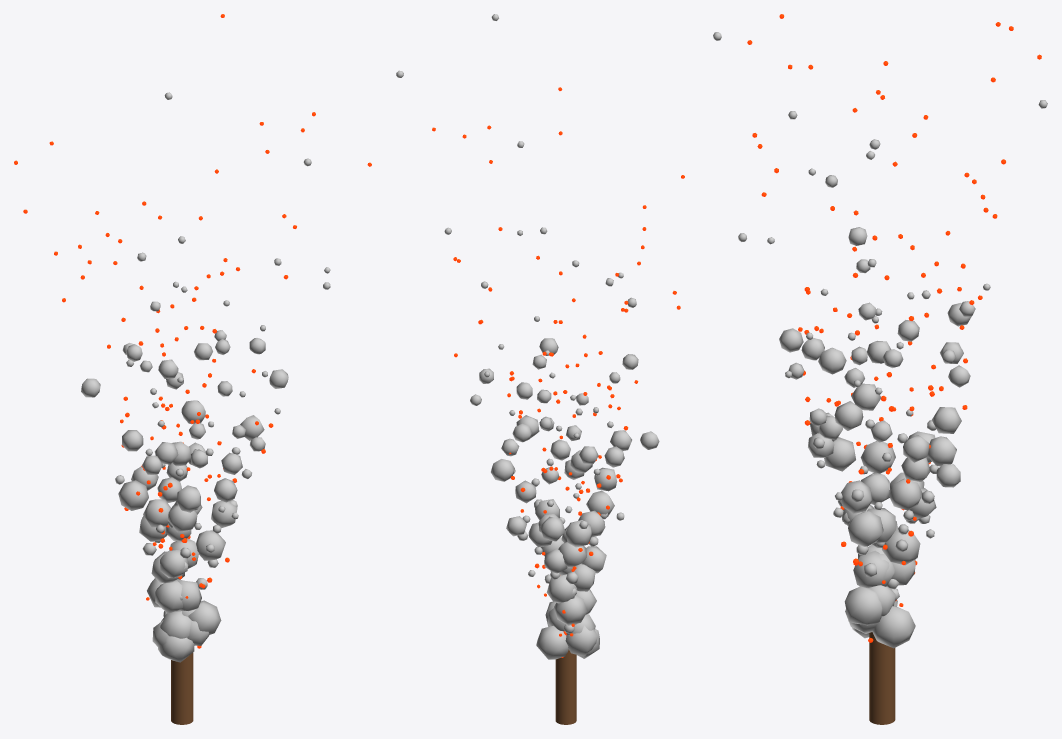
The model's file is fakel.fbx.
3 views of the same model, side by side, from view 1: azimuth 30°, elevation 25°; view 2: azimuth 150°, elevation 25°; view 3: azimuth 270°, elevation 25° (orthographic). The views are drawn at different scales.
Parts seen in each view (by area): view 1: Cylinder, Sphere_54, Sphere_44, Sphere_59, Sphere_61, Sphere_57, Sphere_47, Sphere_46; view 2: Cylinder, Sphere_60, Sphere_53, Sphere_62, Sphere_51, Sphere_44, Sphere_48, Sphere_45, Sphere_38, Sphere_49, Sphere_46, Sphere_35; view 3: Cylinder, Sphere_60, Sphere_59, Sphere_47, Sphere_55, Sphere_51, Sphere_43, Sphere_40, Sphere_45, Sphere_42, Sphere_38, Sphere_36 (+6 smaller).
Part boxes in pixels (x1=…): Cylinder: x1=171, y1=652, x2=193, y2=724; Sphere_54: x1=155, y1=579, x2=182, y2=613; Sphere_44: x1=118, y1=480, x2=148, y2=510; Sphere_59: x1=188, y1=600, x2=221, y2=635; Sphere_61: x1=158, y1=636, x2=194, y2=662; Sphere_57: x1=160, y1=611, x2=191, y2=638; Sphere_47: x1=196, y1=530, x2=225, y2=560; Sphere_46: x1=160, y1=549, x2=188, y2=577; Cylinder: x1=555, y1=649, x2=576, y2=724; Sphere_60: x1=536, y1=625, x2=568, y2=659; Sphere_53: x1=554, y1=595, x2=587, y2=625; Sphere_62: x1=565, y1=625, x2=597, y2=656; Sphere_51: x1=546, y1=574, x2=576, y2=603; Sphere_44: x1=566, y1=520, x2=592, y2=547; Sphere_48: x1=558, y1=542, x2=586, y2=567; Sphere_45: x1=586, y1=490, x2=614, y2=516; Sphere_38: x1=540, y1=516, x2=565, y2=541; Sphere_49: x1=570, y1=564, x2=595, y2=591; Sphere_46: x1=582, y1=546, x2=606, y2=573; Sphere_35: x1=491, y1=459, x2=514, y2=481; Cylinder: x1=869, y1=632, x2=895, y2=724; Sphere_60: x1=872, y1=605, x2=915, y2=648; Sphere_59: x1=844, y1=586, x2=882, y2=625; Sphere_47: x1=848, y1=511, x2=883, y2=546; Sphere_55: x1=853, y1=550, x2=889, y2=587; Sphere_51: x1=882, y1=527, x2=920, y2=565; Sphere_43: x1=860, y1=441, x2=895, y2=473; Sphere_40: x1=889, y1=478, x2=922, y2=510; Sphere_45: x1=824, y1=437, x2=855, y2=471; Sphere_42: x1=841, y1=480, x2=872, y2=513; Sphere_38: x1=927, y1=436, x2=956, y2=466; Sphere_36: x1=834, y1=401, x2=863, y2=430.
Size of the model in its own units: 132 by 321 by 126.
